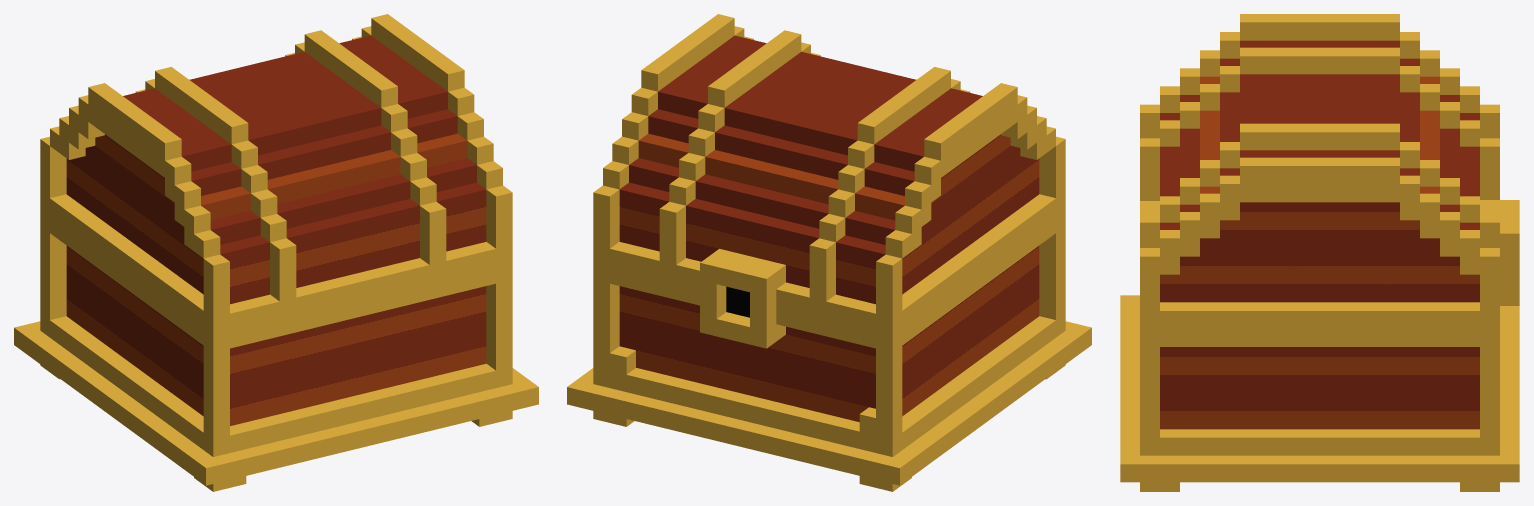
The model's file is treasure-chest.dae.
3 renders of one model, left to right at view 1: azimuth 30°, elevation 25°; view 2: azimuth 150°, elevation 25°; view 3: azimuth 270°, elevation 25°, orthographic. The views are drawn at different scales.
Visible parts, largest first — view 1: treasure-chest.layer; view 2: treasure-chest.layer; view 3: treasure-chest.layer.
Boxes of the visible parts, left/top/right/bottom form: treasure-chest.layer: left=14, top=14, right=538, bottom=491; treasure-chest.layer: left=567, top=14, right=1091, bottom=491; treasure-chest.layer: left=1120, top=14, right=1519, bottom=491.
Bounding box in the file's own units: 2 × 2 × 1.8.
Materials: 1 (1 with a texture image).
